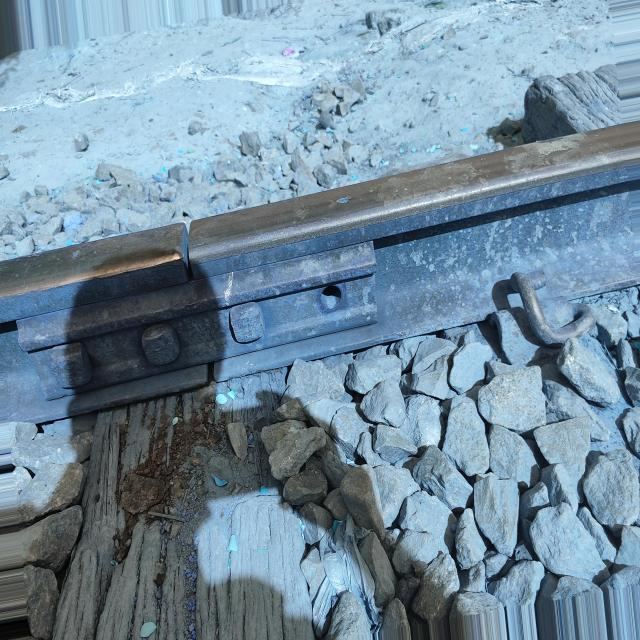Defective Joint: (16, 242, 377, 399)
